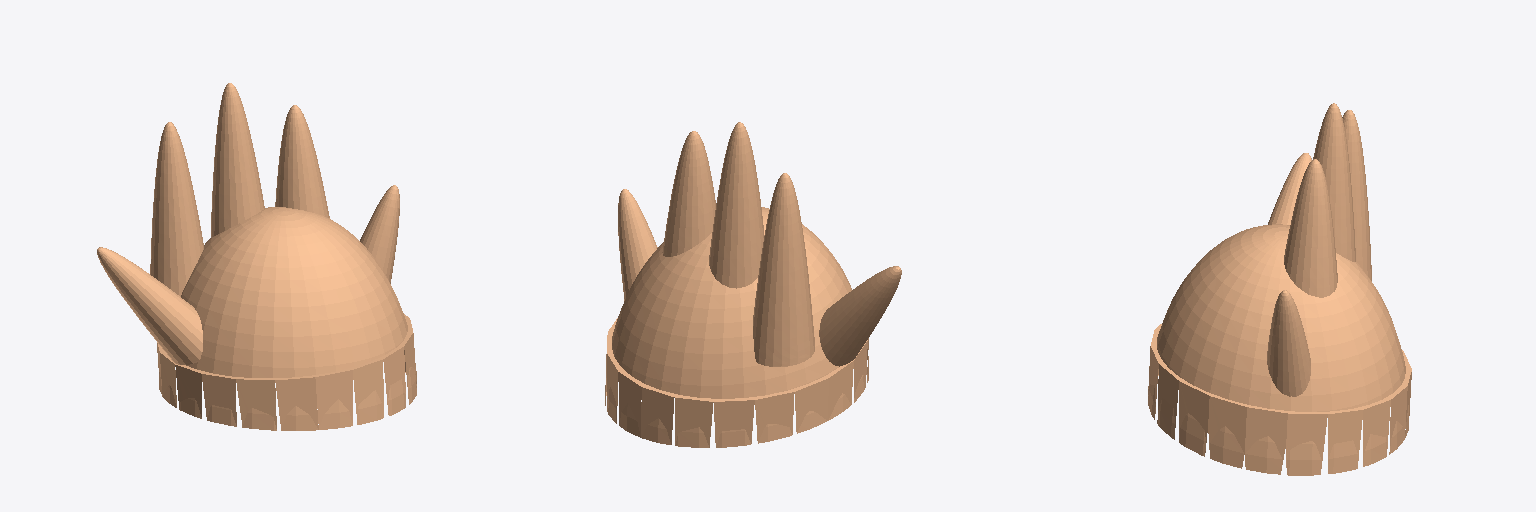
The model's file is hand.obj.
3 renders of one model, left to right at view 1: azimuth 30°, elevation 25°; view 2: azimuth 150°, elevation 25°; view 3: azimuth 270°, elevation 25°, orthographic.
Visible parts, largest first — view 1: obj_0; view 2: obj_0; view 3: obj_0.
Part boxes in pixels (x1,y1,x2,y2): obj_0: (97, 83, 416, 430); obj_0: (605, 122, 901, 447); obj_0: (1148, 103, 1411, 475).
Size of the model in its own units: 5.21 by 5.24 by 4.1.